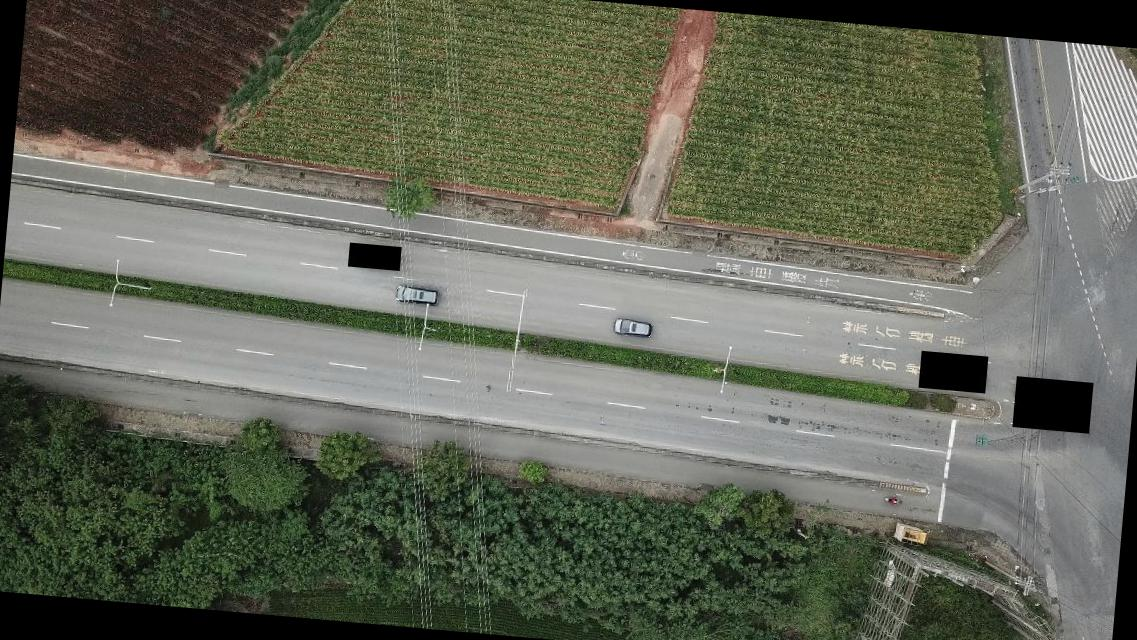vehicle: (392, 284, 440, 308), (608, 314, 652, 340), (896, 522, 930, 546)
